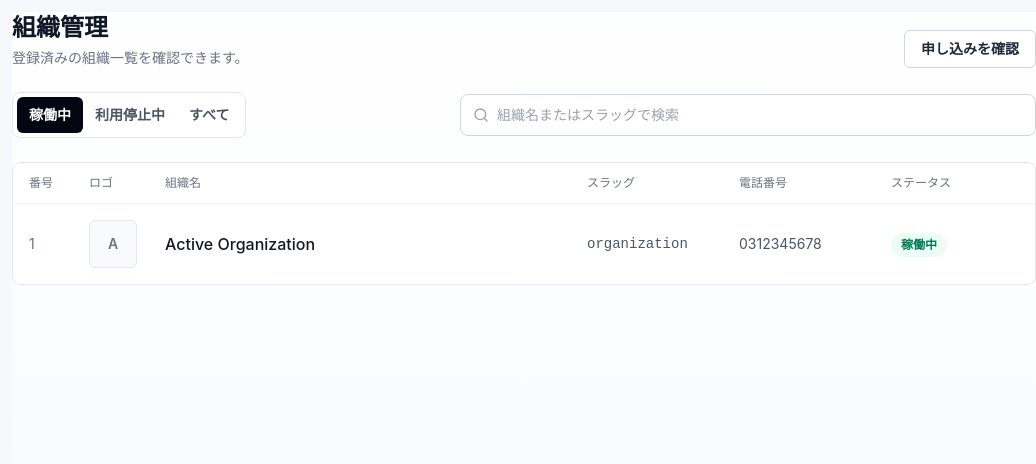
AdminOrganizationsPage status filters › switches between suspended and all organizations
Expected: the text "Active Organization" is shown, x1=165 y1=234 x2=315 y2=254
Click the button "利用停止中" at x=130, y=115, box x1=83 y1=97 x2=177 y2=133
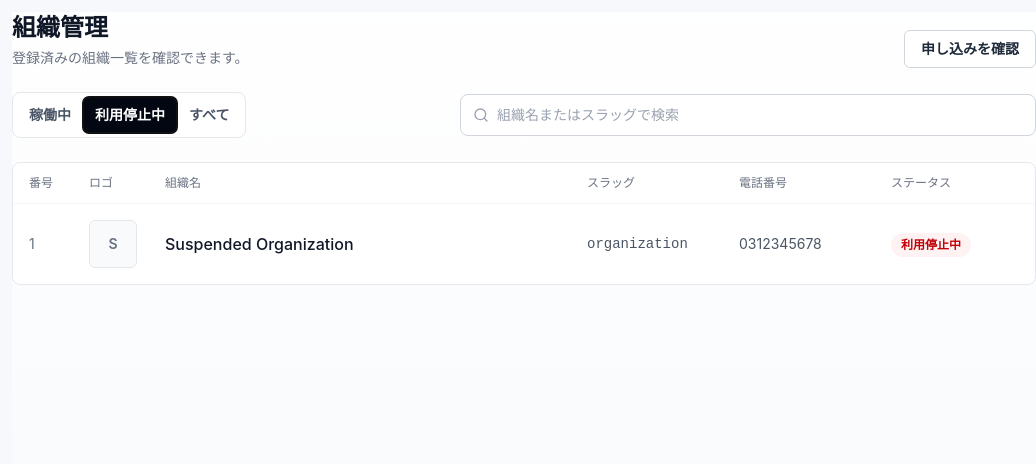
Expected: the text "Suspended Organization" is shown, x1=165 y1=234 x2=354 y2=254
Expected: the link "Active Organization" is gone
Click the button "すべて" at x=209, y=115, box x1=177 y1=97 x2=242 y2=133
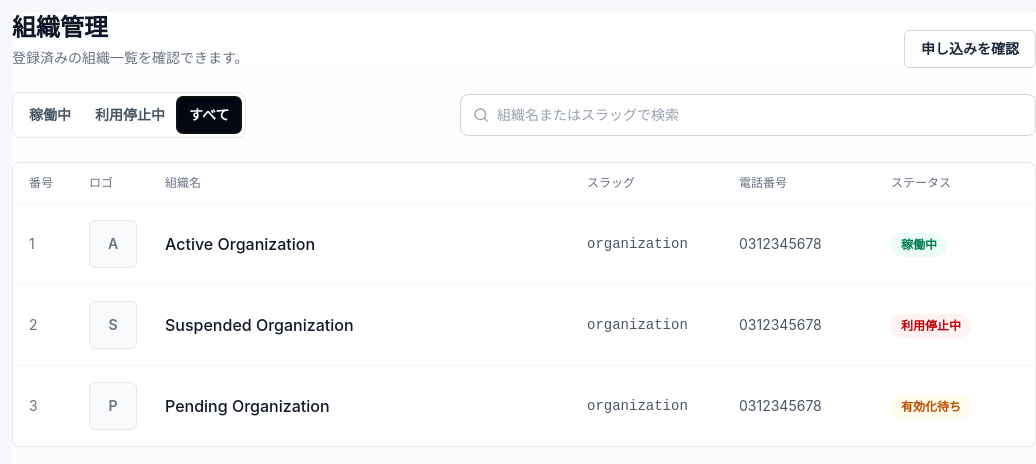
Expected: the text "Suspended Organization" is shown, x1=165 y1=315 x2=354 y2=335
Expected: the text "Active Organization" is shown, x1=165 y1=234 x2=315 y2=254
Expected: the text "Pending Organization" is shown, x1=165 y1=396 x2=330 y2=416
